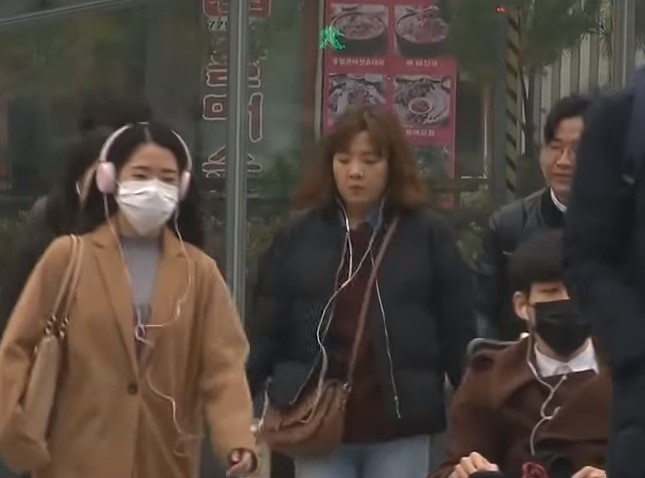face_no_mask: (327, 107, 398, 207), (538, 96, 588, 192)
face_with_mask: (97, 116, 196, 241), (509, 230, 592, 356)
